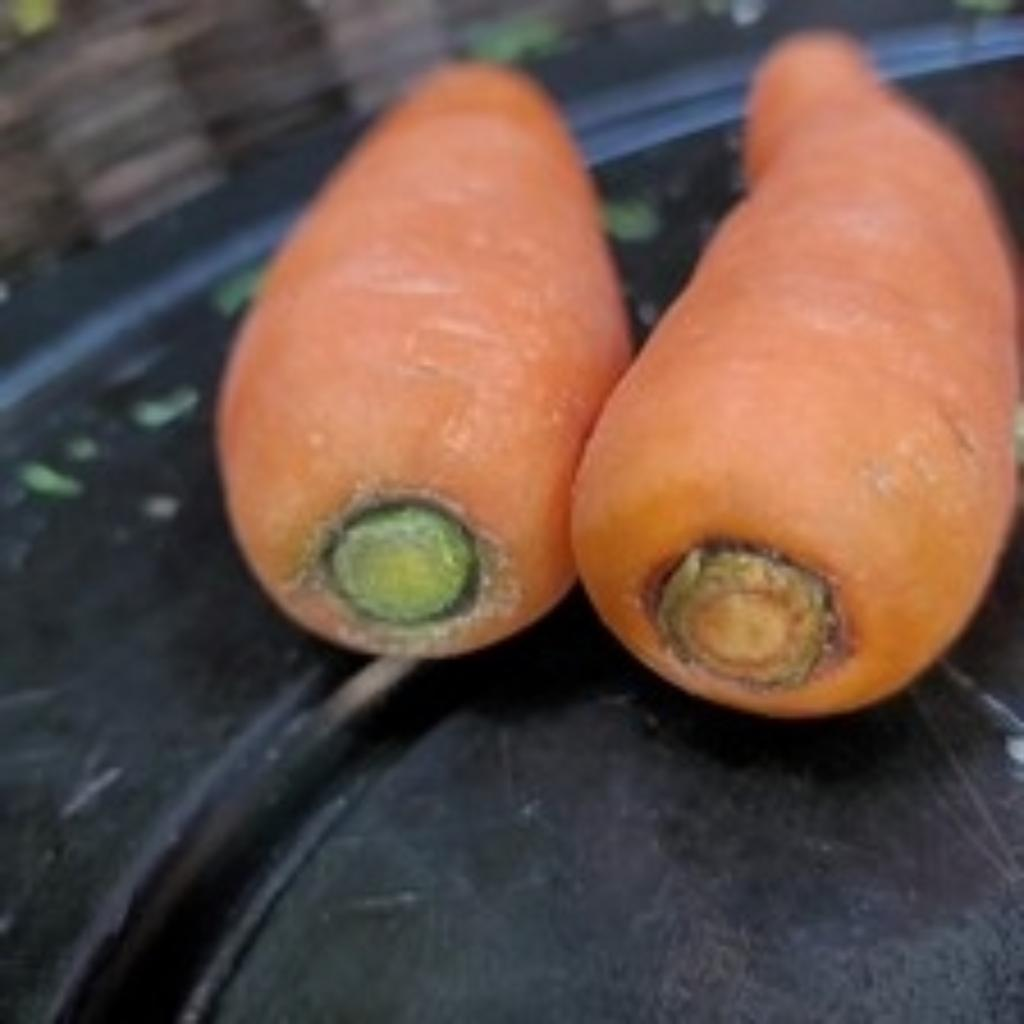carrot: (567, 32, 1006, 709), (215, 59, 622, 649)
